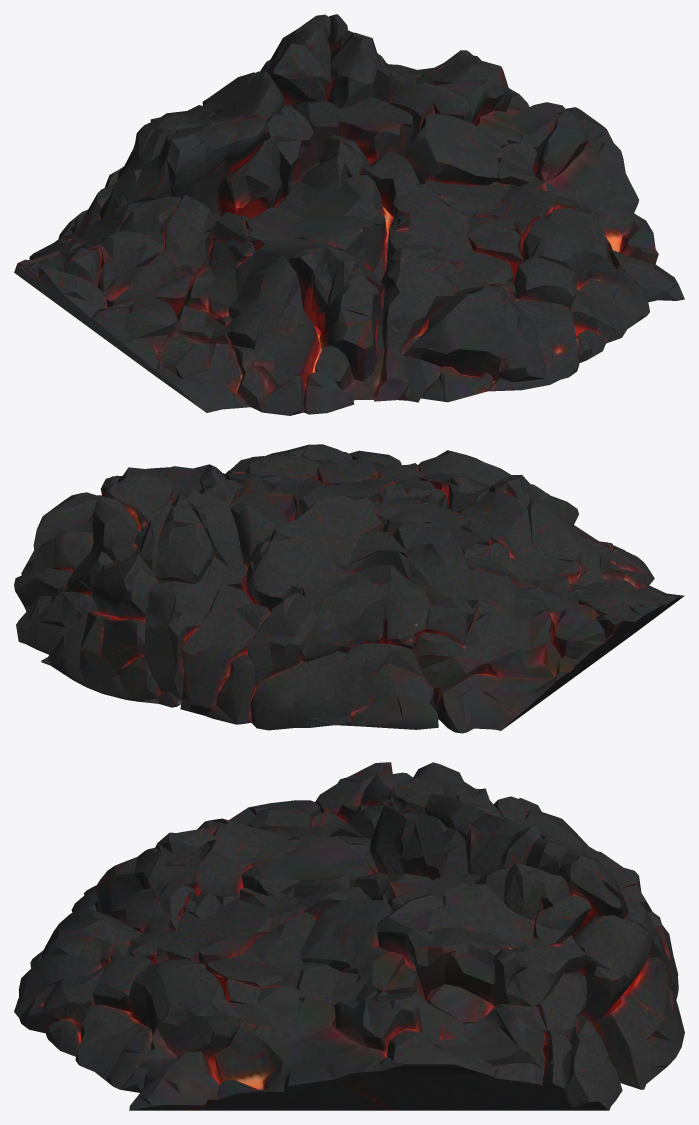
File: p_lava.glb
The picture shows the model from 3 angles, top to bottom: view 1: azimuth 30°, elevation 25°; view 2: azimuth 150°, elevation 25°; view 3: azimuth 270°, elevation 25°; orthographic projection. The views are drawn at different scales.
Visible parts, largest first — view 1: mesh_0; view 2: mesh_0; view 3: mesh_0.
Boxes of the visible parts, x1,y1,x2,y2 form: mesh_0: (14, 14, 684, 415); mesh_0: (14, 444, 684, 733); mesh_0: (14, 762, 684, 1110).
Bounding box in the file's own units: 1.9 × 0.5318 × 1.81.
Materials: 1 (1 with a texture image).
